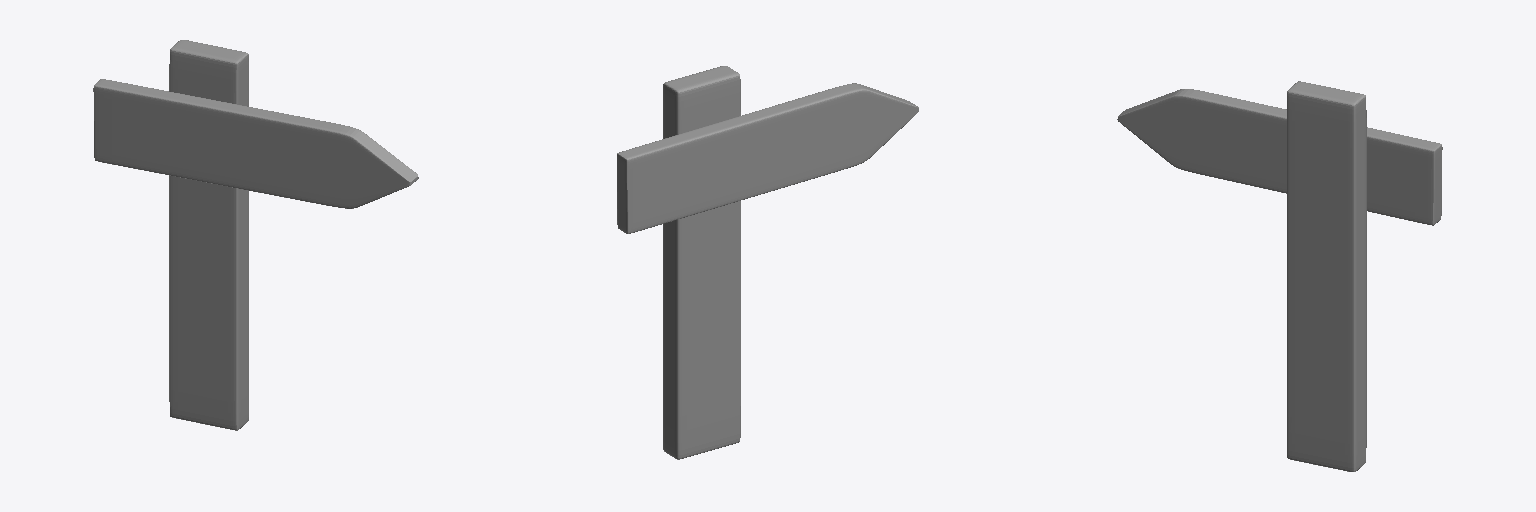
File: placa2.obj
3 views of the same model, side by side, from view 1: azimuth 90°, elevation 25°; view 2: azimuth 150°, elevation 25°; view 3: azimuth 270°, elevation 25° (orthographic).
Parts seen in each view (by area): view 1: Sign_Arrow_Cube.001, Sign_Base_Cube; view 2: Sign_Arrow_Cube.001, Sign_Base_Cube; view 3: Sign_Base_Cube, Sign_Arrow_Cube.001.
Boxes of the visible parts, <box> form: Sign_Arrow_Cube.001: <box>93,79,418,208</box>; Sign_Base_Cube: <box>169,40,248,430</box>; Sign_Arrow_Cube.001: <box>617,83,918,233</box>; Sign_Base_Cube: <box>663,66,740,459</box>; Sign_Base_Cube: <box>1287,81,1366,471</box>; Sign_Arrow_Cube.001: <box>1117,89,1442,225</box>.
Bounding box in the file's own units: 0.7578 × 1.8 × 1.43.